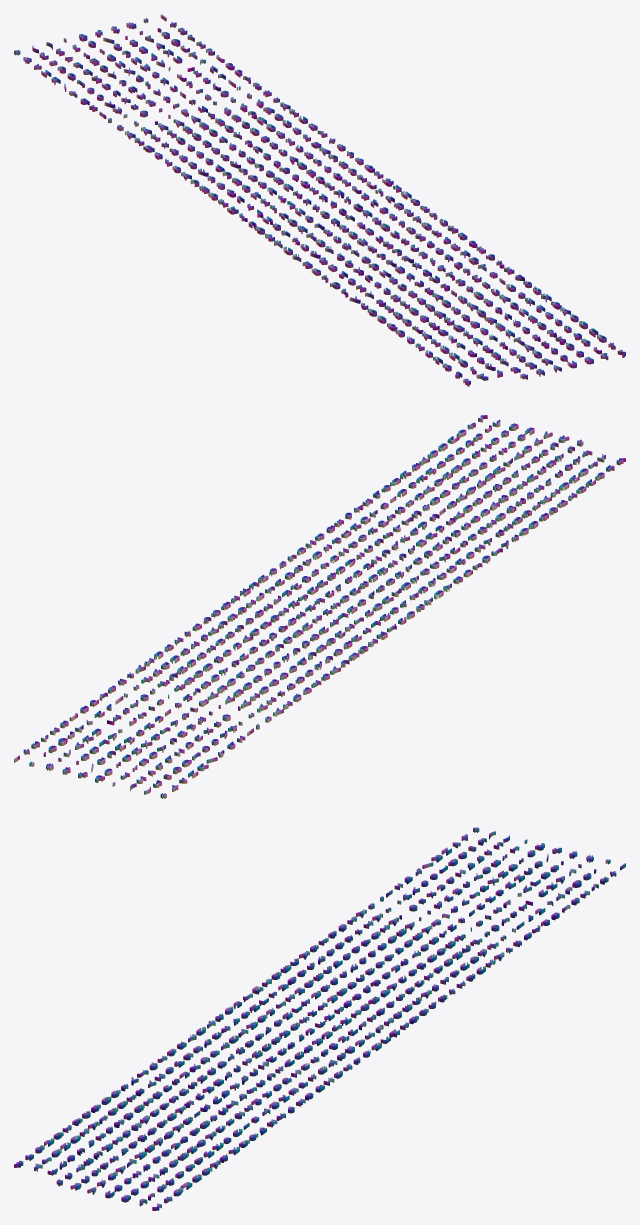
The model's file is FredokaOne-Tatting.fbx.
3 renders of one model, top to bottom at view 1: azimuth 30°, elevation 25°; view 2: azimuth 150°, elevation 25°; view 3: azimuth 330°, elevation 25°, orthographic.
Size of the model in its own units: 943 by 20 by 4971.
